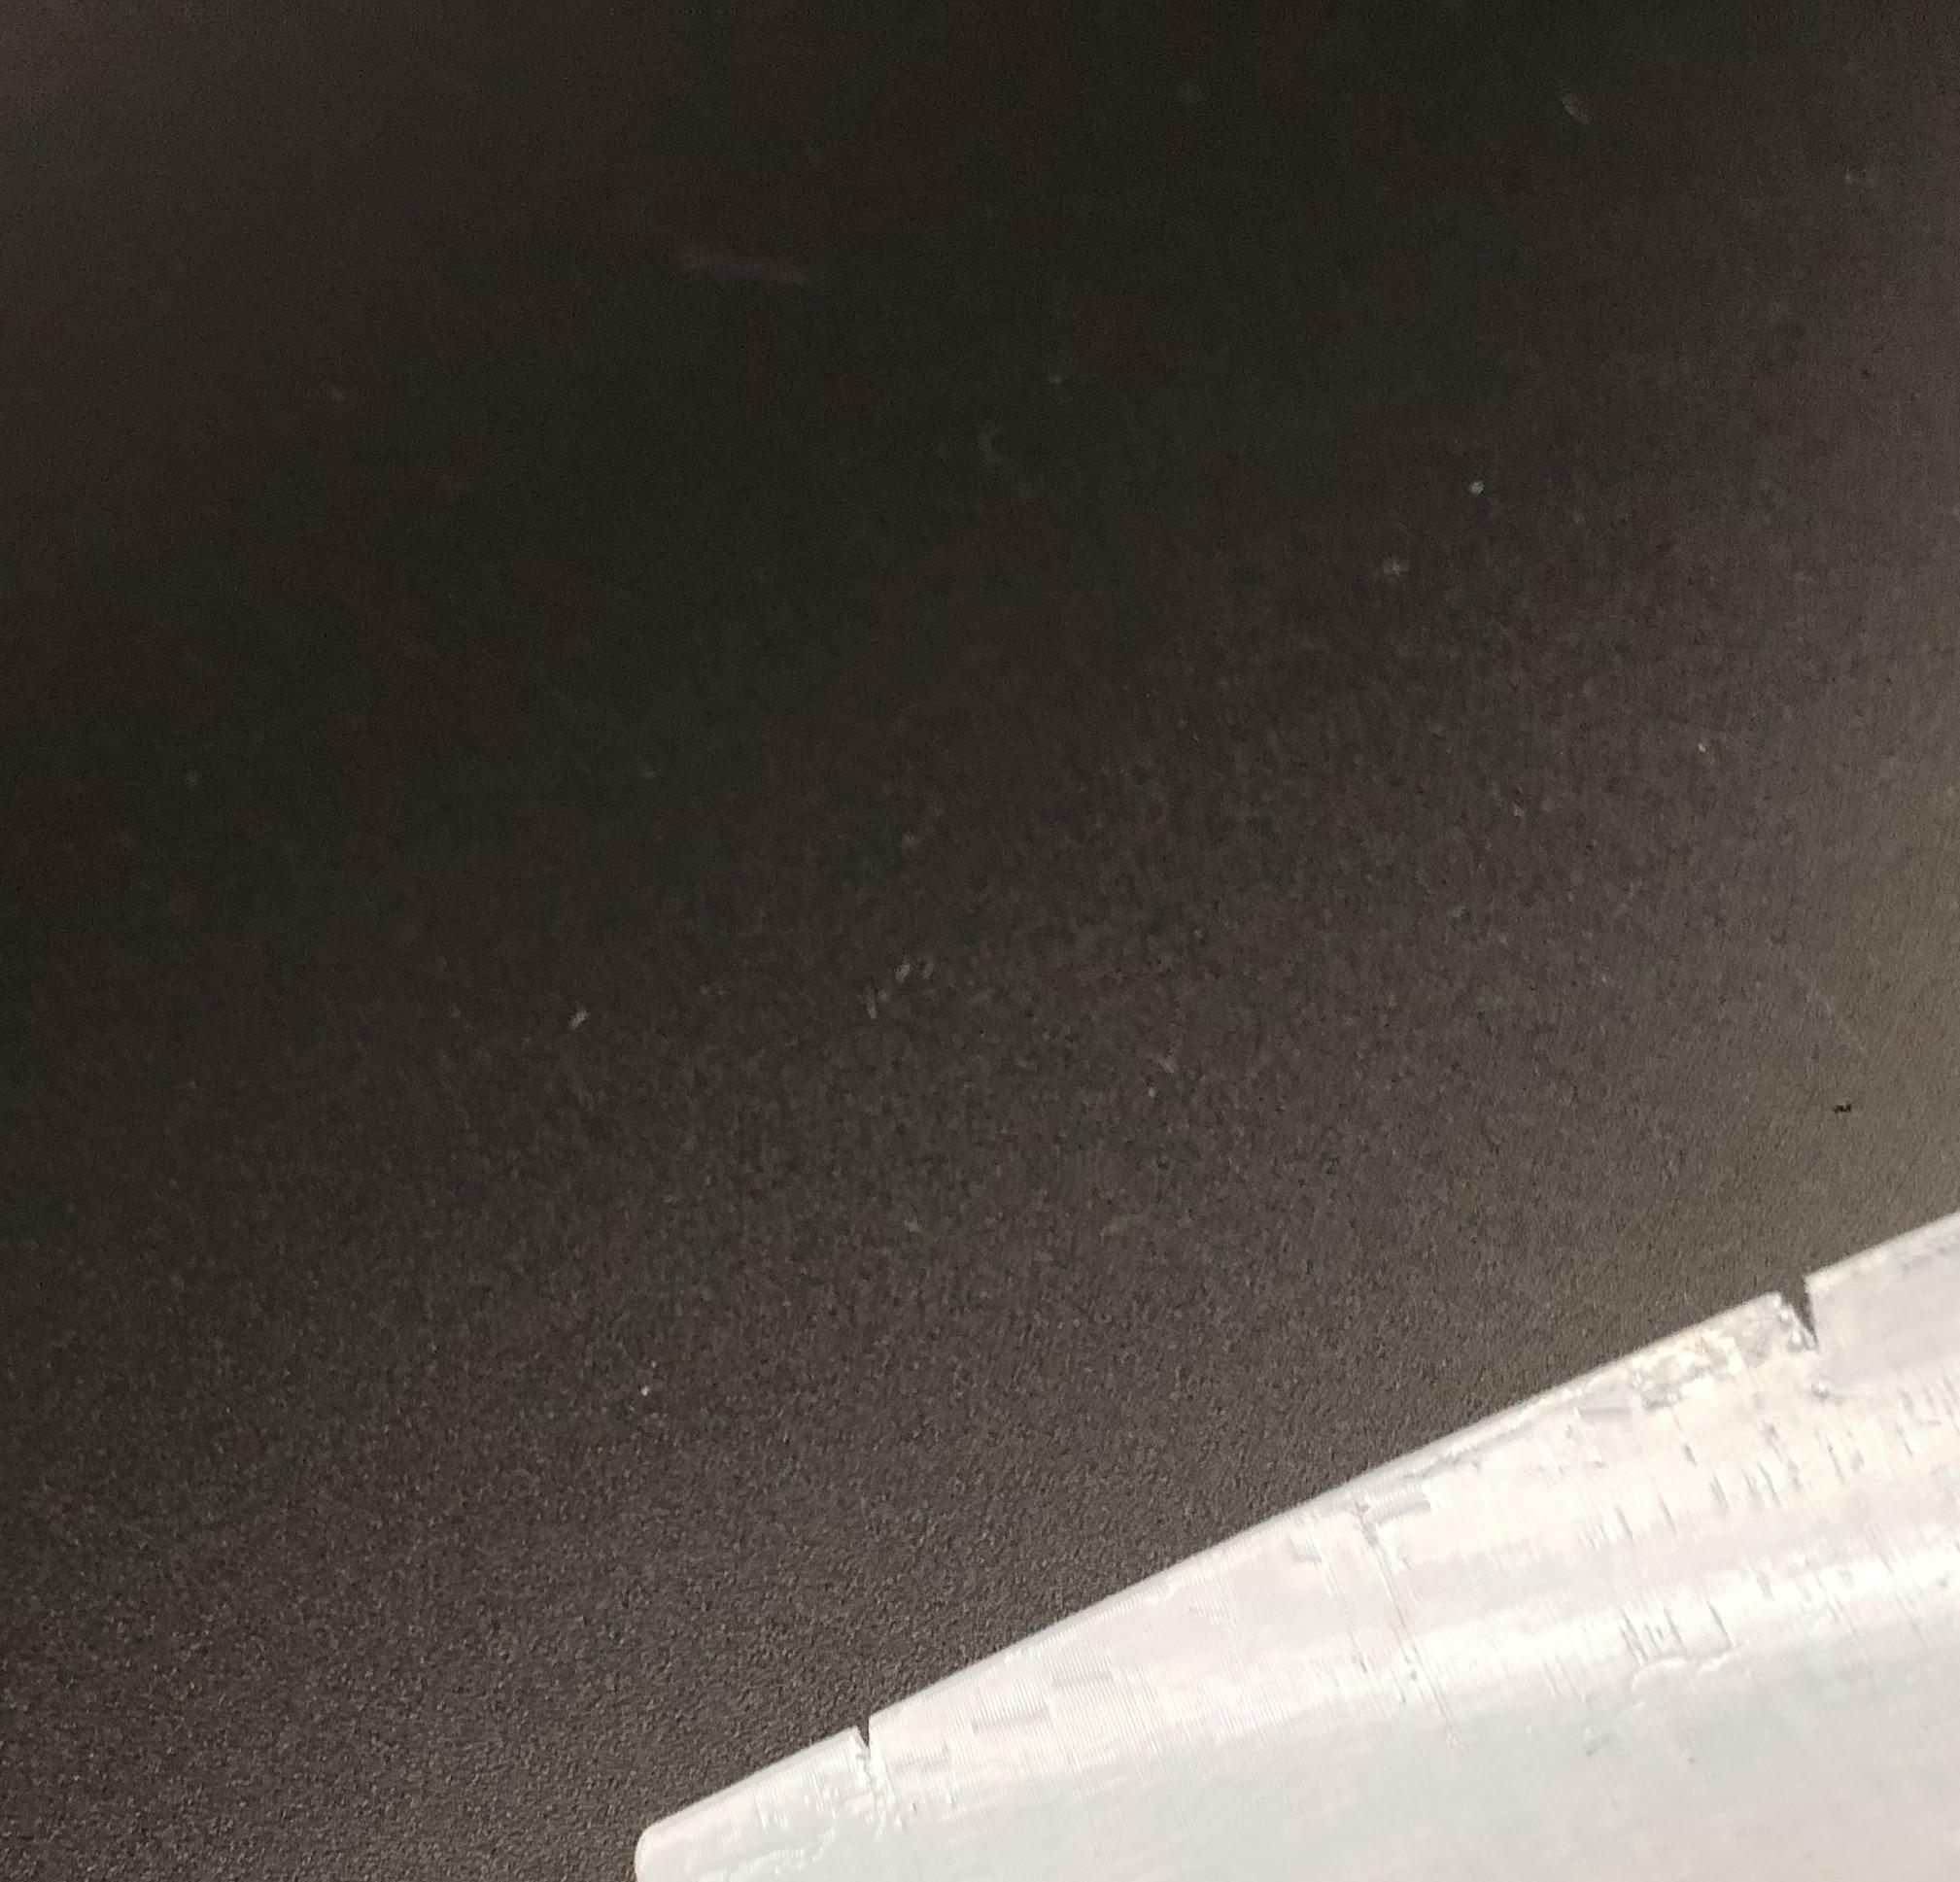groove: (1766, 1272, 1836, 1356), (847, 1709, 899, 1758)
